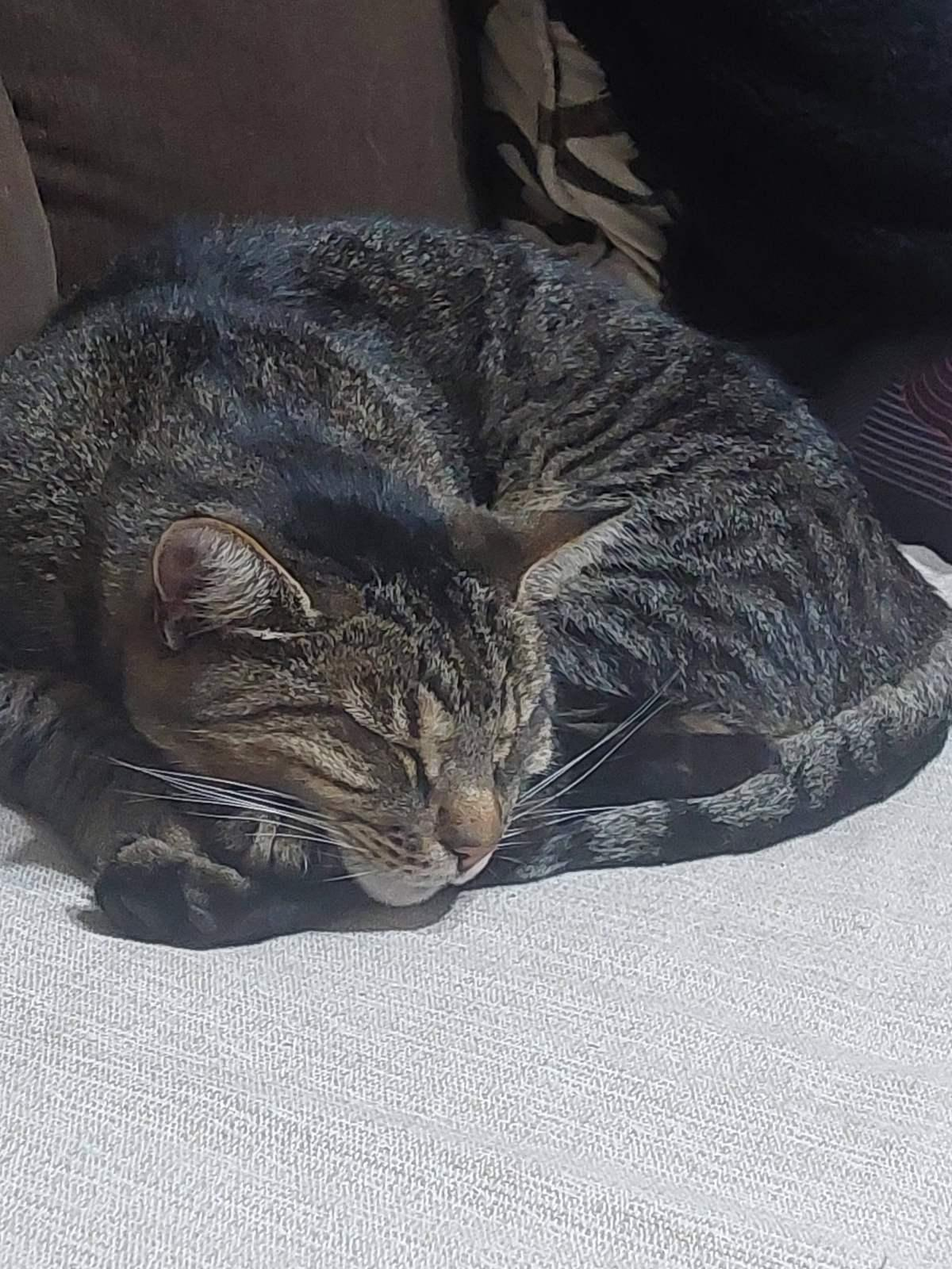macka: (0, 214, 949, 950)
